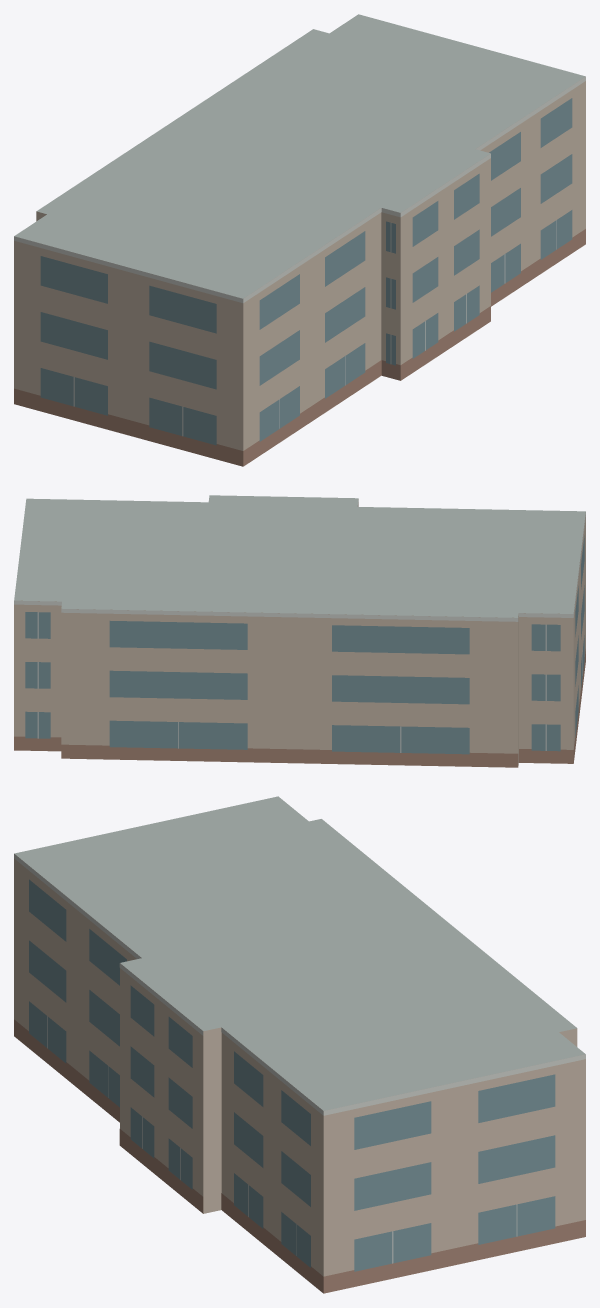
Rendered from survey-upis-32836055.glb.
3 renders of one model, top to bottom at view 1: azimuth 30°, elevation 25°; view 2: azimuth 150°, elevation 25°; view 3: azimuth 270°, elevation 25°, orthographic. The views are drawn at different scales.
Visible parts, largest first — view 1: survey-upis-32836055.tmp; view 2: survey-upis-32836055.tmp; view 3: survey-upis-32836055.tmp.
Boxes of the visible parts, x1=… form: survey-upis-32836055.tmp: x1=14, y1=14, x2=585, y2=466; survey-upis-32836055.tmp: x1=14, y1=495, x2=585, y2=767; survey-upis-32836055.tmp: x1=14, y1=796, x2=585, y2=1293.
Bounding box in the file's own units: 33.81 × 9.15 × 25.97.
